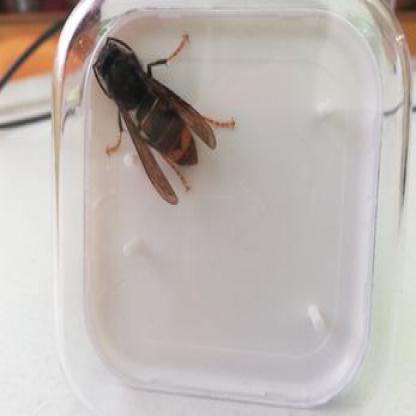Asian Hornet: (96, 31, 239, 208)
